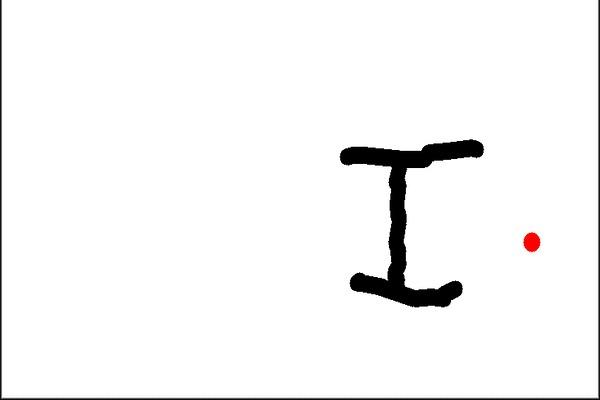i: (330, 133, 479, 311)
